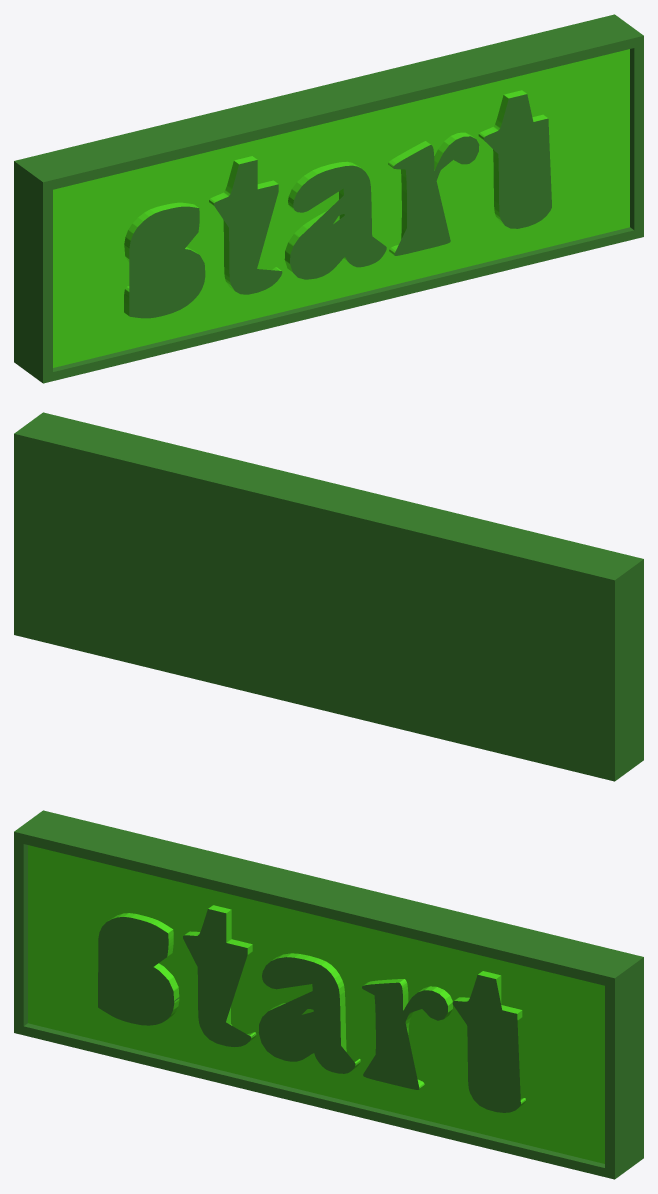
Rendered from StartButton.fbx.
The picture shows the model from 3 angles, top to bottom: view 1: azimuth 30°, elevation 25°; view 2: azimuth 150°, elevation 25°; view 3: azimuth 330°, elevation 25°; orthographic projection.
Parts seen in each view (by area): view 1: 立方体; view 2: 立方体; view 3: 立方体.
Boxes of the visible parts, box(x1,y1,x2,y2) form: 立方体: box(14, 14, 643, 383); 立方体: box(14, 412, 643, 781); 立方体: box(14, 810, 643, 1179).
Bounding box in the file's own units: 580 × 186 × 50.44.
